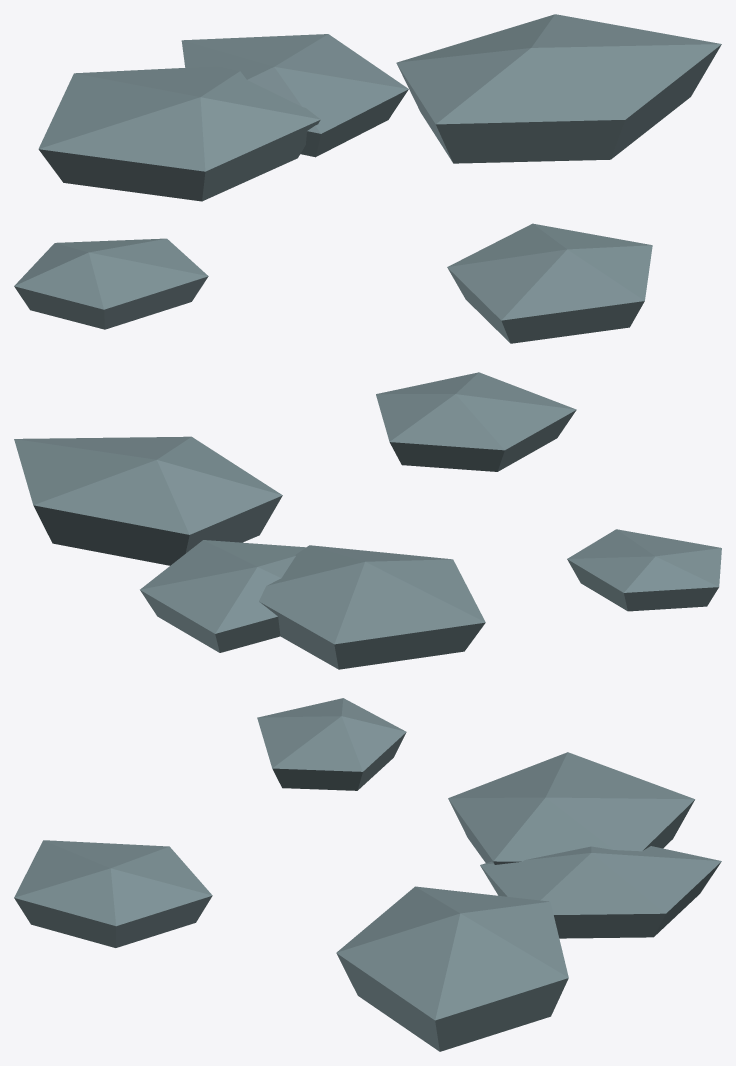
Rendered from detail_003a_slate_pebbles.glb.
3 renders of one model, top to bottom at view 1: azimuth 30°, elevation 25°; view 2: azimuth 150°, elevation 25°; view 3: azimuth 270°, elevation 25°, orthographic. The views are drawn at different scales.
Visible parts, largest first — view 1: detail_003a_slate_pebbles__mesh; view 2: detail_003a_slate_pebbles__mesh; view 3: detail_003a_slate_pebbles__mesh.
Boxes of the visible parts, x1,y1,x2,y2 form: detail_003a_slate_pebbles__mesh: (14,14,721,343); detail_003a_slate_pebbles__mesh: (14,372,721,669); detail_003a_slate_pebbles__mesh: (14,698,721,1051).
Size of the model in its own units: 0.1279 by 0.0125 by 0.1119.
